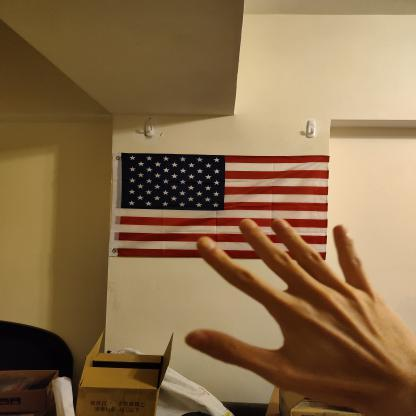bare_hand: (176, 210, 416, 416)
